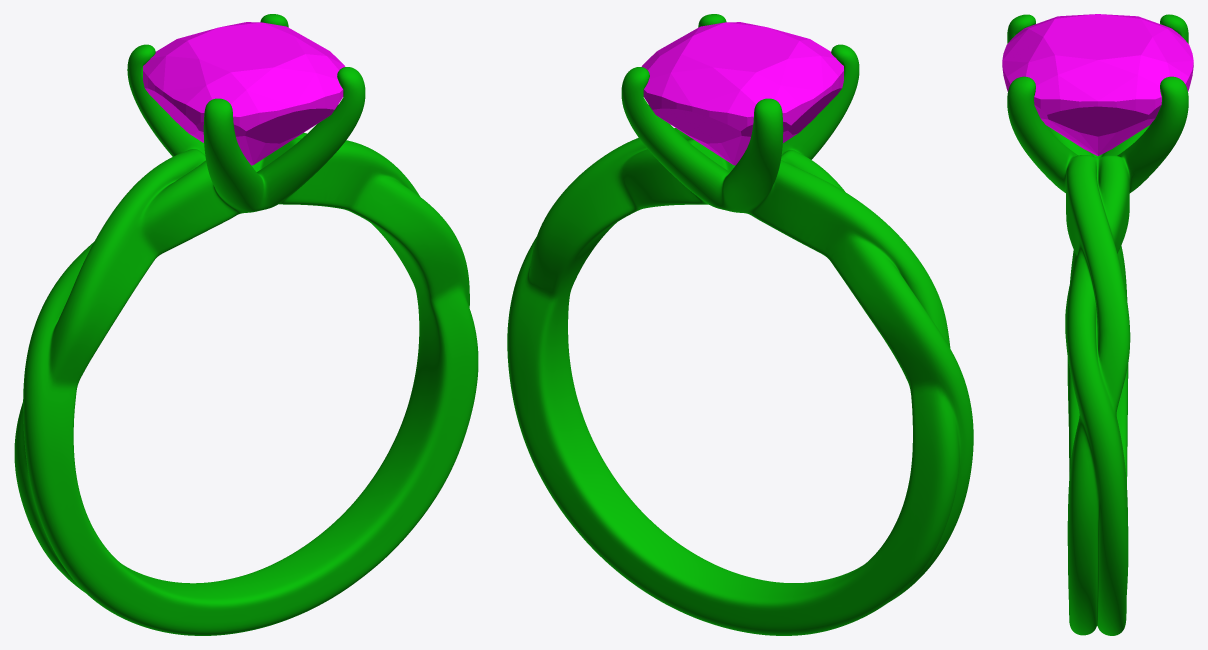
File: BE1M56D_CU_200ct_RENDER.glb
3 views of the same model, side by side, from view 1: azimuth 30°, elevation 25°; view 2: azimuth 150°, elevation 25°; view 3: azimuth 270°, elevation 25° (orthographic).
Parts seen in each view (by area): view 1: Metal 01, CS_Diamond_Cushion; view 2: Metal 01, CS_Diamond_Cushion; view 3: Metal 01, CS_Diamond_Cushion.
Boxes of the visible parts, bbox=[...] form: Metal 01: bbox=[14, 14, 478, 635]; CS_Diamond_Cushion: bbox=[143, 22, 345, 165]; Metal 01: bbox=[507, 14, 973, 635]; CS_Diamond_Cushion: bbox=[641, 22, 843, 165]; Metal 01: bbox=[1007, 14, 1188, 635]; CS_Diamond_Cushion: bbox=[1002, 14, 1193, 155].
Size of the model in its own units: 20.34 by 24.8 by 7.5.
